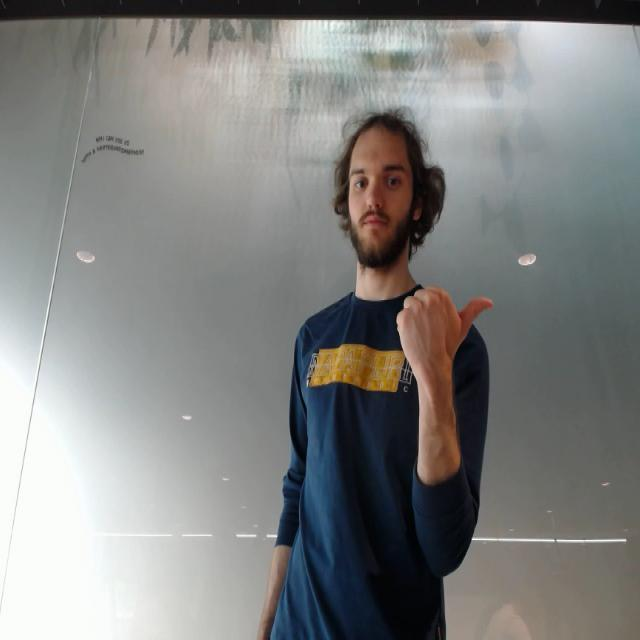right: (389, 276, 502, 366)
